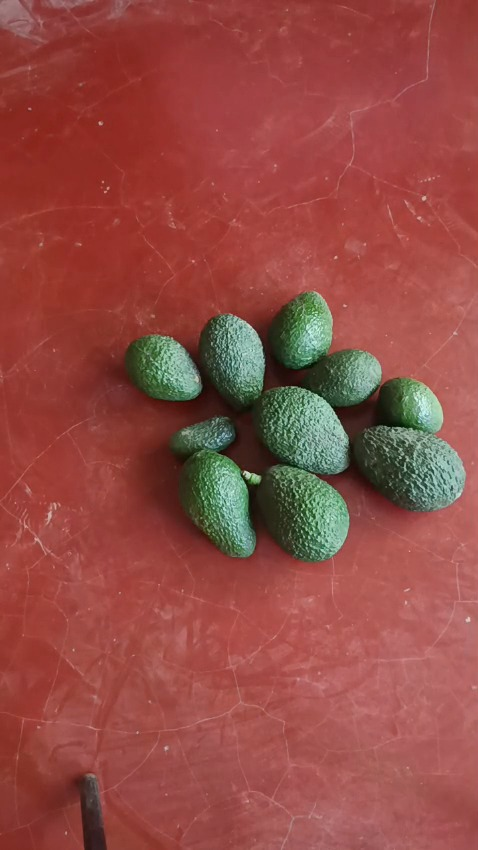Primera: (354, 425, 466, 513), (254, 464, 349, 558), (252, 385, 350, 474), (178, 449, 256, 556), (198, 313, 266, 409)
Segunda: (125, 335, 203, 402), (267, 291, 333, 369)
Tercera: (300, 349, 382, 408), (375, 376, 443, 433), (170, 415, 238, 460)
